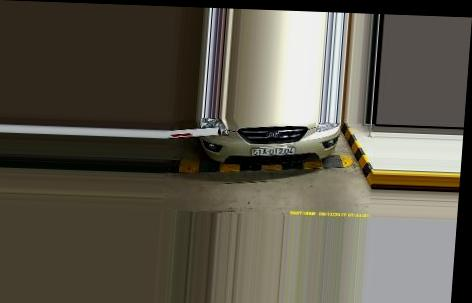License_Plate: (249, 146, 298, 156)
